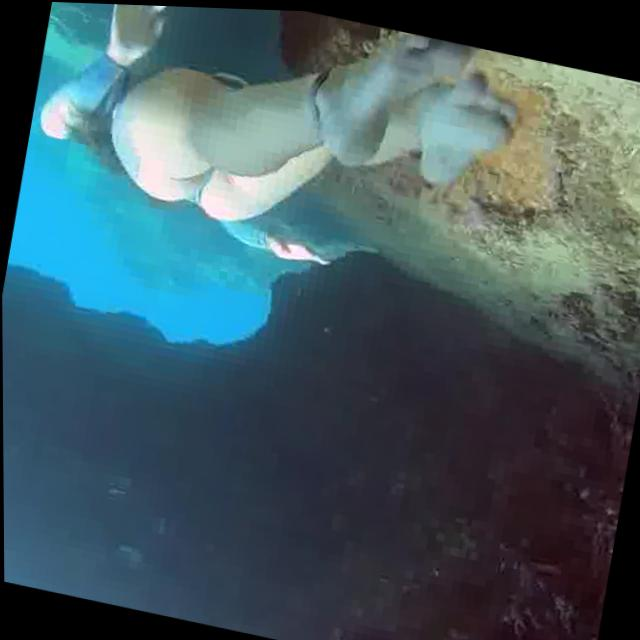human: (22, 1, 536, 286)
